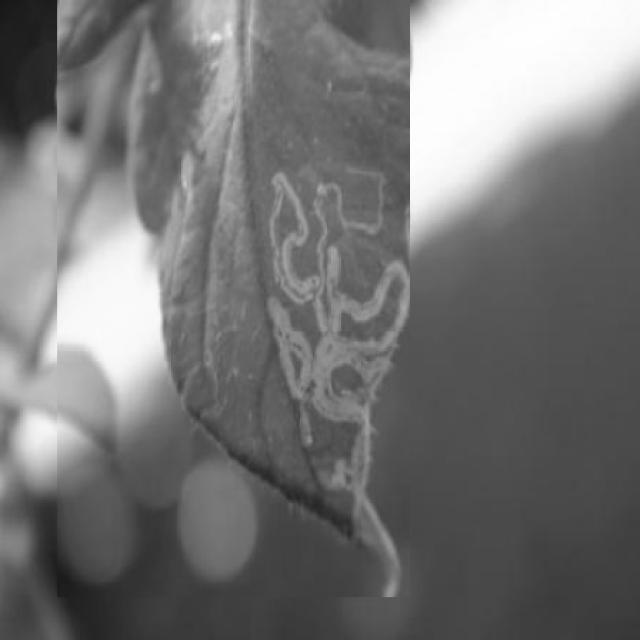Leaf Miner: (57, 0, 410, 597)
